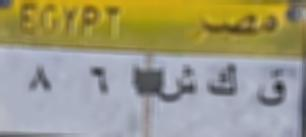6: (88, 60, 113, 101)
8: (26, 61, 53, 99)
kaaf: (205, 61, 240, 101)
qaaf: (252, 64, 289, 111)
sheen: (157, 63, 199, 107)
